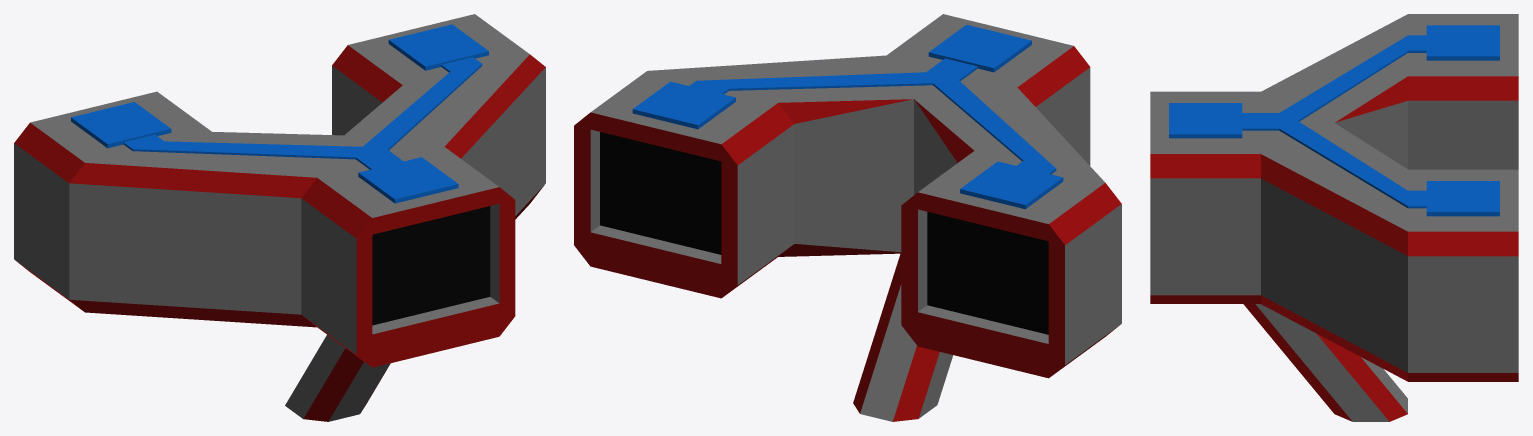
File: Splitter.obj
3 renders of one model, left to right at view 1: azimuth 30°, elevation 25°; view 2: azimuth 150°, elevation 25°; view 3: azimuth 270°, elevation 25°, orthographic. The views are drawn at different scales.
Parts seen in each view (by area): view 1: Cube.004_Cube.011; view 2: Cube.004_Cube.011; view 3: Cube.004_Cube.011.
Part boxes in pixels (x1=…): Cube.004_Cube.011: x1=14, y1=14, x2=545, y2=421; Cube.004_Cube.011: x1=574, y1=14, x2=1121, y2=421; Cube.004_Cube.011: x1=1150, y1=14, x2=1518, y2=421.
Size of the model in its own units: 3 by 1.73 by 2.
